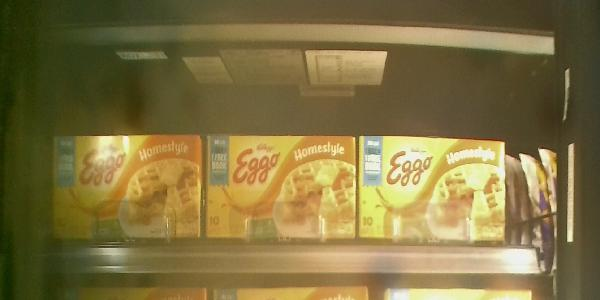icecream: (44, 118, 201, 245), (358, 128, 515, 246), (204, 129, 355, 244)
